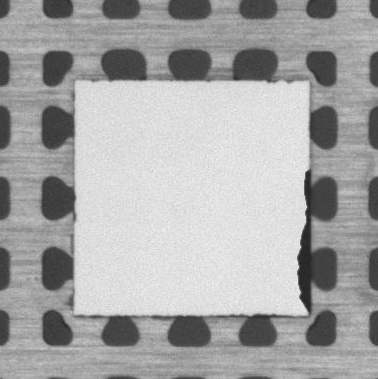DIE_BROKEN: (295, 165, 313, 311)
